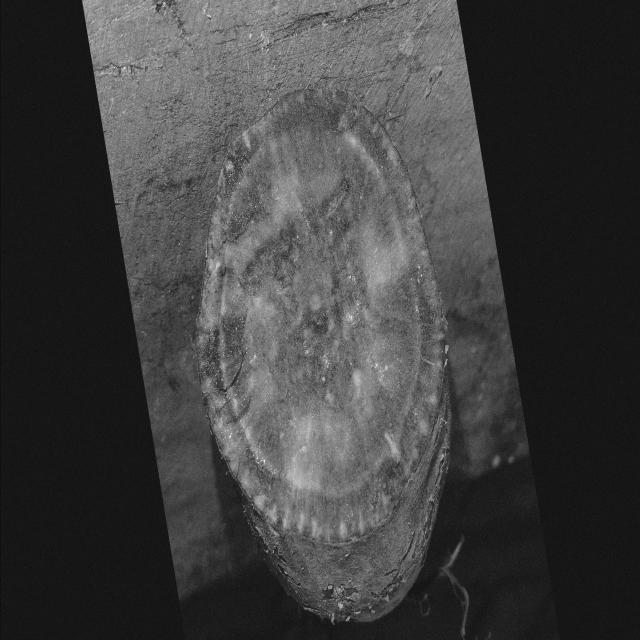Sick Sweet Potato_Tuber Rot: (196, 91, 444, 544)
